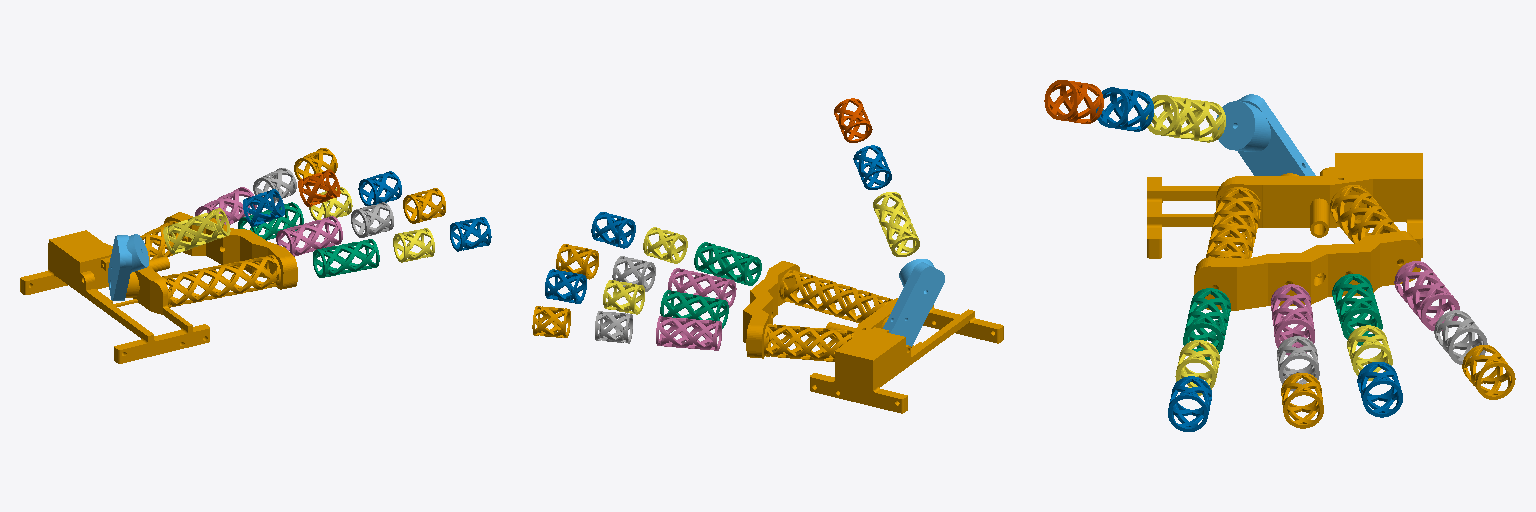
robot.urdf — hand:
<robot name="hand">

    <!--Base-->
    <link name="wrist_base">
        <inertial>
            <density value="1400"/>
        </inertial>
        <collision>
            <origin xyz="0.046 -0.014 0." rpy="0 0 -0.1"/>
            <geometry>
                <box size="0.065 0.035 0.015" />
            </geometry>
        </collision>
        <collision>
            <origin xyz="0.039 0.016 0.0" rpy="0 0 0.35"/>
            <geometry>
                <box size="0.055 0.032 0.015" />
            </geometry>
        </collision>
        <collision>
            <origin xyz="0.043 0.0 0.0" rpy="0 0 0"/>
            <geometry>
                <box size="0.062 0.025 0.015" />
            </geometry>
        </collision>
        <collision>
            <origin xyz="0.011 -0.002 0.0" rpy="0 0 0"/>
            <geometry>
                <box size="0.006 0.05 0.015" />
            </geometry>
        </collision>
        <visual>
            <origin xyz="0 0 0" rpy="-3.142 0 -1.571"/>
            <geometry>
                <mesh filename="meshes/wrist_bone.stl" scale="0.001 0.001 0.001"/>
            </geometry>
        </visual>
        <visual>
            <origin xyz="0.014 -0.02 0" rpy="0 0 -1.661"/>
            <geometry>
                <mesh filename="meshes/metacarpal_long.stl" scale="0.001 0.001 0.001"/>
            </geometry>
        </visual>
        <visual>
            <origin xyz="0.012 0.016 0" rpy="0 0 -1.241"/>
            <geometry>
                <mesh filename="meshes/metacarpal_short.stl" scale="0.001 0.001 0.001"/>
            </geometry>
        </visual>
    </link>
    
    <!--Index-->
    <link name="index_base">
        <inertial>
            <density value="1400"/>
        </inertial>
        <collision>
            <origin xyz="0.0035 0 0" rpy="0 -1.571 0"/>
            <geometry>
                <cylinder length="0.007" radius="0.007" />
            </geometry>
        </collision>
    </link>
    <link name="index_proximal">
        <inertial>
            <density value="1400"/>
        </inertial>
        <collision>
            <origin xyz="0.02 0 0" rpy="0 -1.571 0"/>
            <geometry>
                <cylinder length="0.04" radius="0.007" />
            </geometry>
        </collision>
        <visual>
            <origin xyz="0.007 0 0" rpy="0 0 -1.571"/>
            <geometry>
                <mesh filename="meshes/bone_long.stl" scale="0.001 0.001 0.001"/>
            </geometry>
        </visual>
    </link>
    <link name="index_middle">
        <inertial>
            <density value="1400"/>
        </inertial>
        <collision>
            <origin xyz="0.014 0 0" rpy="0 -1.571 0"/>
            <geometry>
                <cylinder length="0.028" radius="0.007" />
            </geometry>
        </collision>
        <visual>
            <origin xyz="0.007 0.0 0" rpy="0 0 -1.571"/>
            <geometry>
                <mesh filename="meshes/bone_short.stl" scale="0.001 0.001 0.001"/>
            </geometry>
        </visual>
    </link>
    <link name="index_distal">
        <inertial>
            <density value="1400"/>
        </inertial>
        <collision>
            <origin xyz="0.011 0 0" rpy="0 -1.571 0"/>
            <geometry>
                <cylinder length="0.022" radius="0.007" />
            </geometry>
        </collision>
        <visual>
            <origin xyz="0.007 0 0" rpy="0 0 -1.571"/>
            <geometry>
                <mesh filename="meshes/bone_short.stl" scale="0.001 0.001 0.001"/>
            </geometry>
        </visual>
    </link> 
    
    <joint name="wrist_to_index_base" type="fixed">
        <child link="index_base"/>
        <parent link="wrist_base"/>
        <origin xyz="0.077 -0.028 0.0003" rpy="0 0 -0.09"/>
    </joint>
    <joint name="index_base_to_index_proximal" type="revolute">
        <child link="index_proximal"/>
        <parent link="index_base"/>
        <origin xyz="0.007 0 0" rpy="0 0 0"/>
        <axis xyz="0 -1 0"/>
        <limit lower="0" upper="1.571" effort="1e+15" velocity="20"/>
    </joint>
    <joint name="index_proximal_to_index_middle" type="revolute">
        <child link="index_middle"/>
        <parent link="index_proximal"/>
        <origin xyz="0.04 0 0" rpy="0 0 0"/>
        <axis xyz="0 -1 0"/>
        <limit lower="0" upper="1.571" effort="1e+15" velocity="20"/>
    </joint>
    <joint name="index_middle_to_index_distal" type="revolute">
        <child link="index_distal"/>
        <parent link="index_middle"/>
        <origin xyz="0.028 0 0" rpy="0 0 0"/>
        <axis xyz="0 -1 0"/>
        <limit lower="0" upper="1.571" effort="1e+15" velocity="20"/>
    </joint>

    <!--Mid-->
    <link name="mid_base">
        <inertial>
            <density value="1400"/>
        </inertial>
        <collision>
            <origin xyz="0.0035 0 0" rpy="0 -1.571 0"/>
            <geometry>
                <cylinder length="0.007" radius="0.007" />
            </geometry>
        </collision>
    </link>
    <link name="mid_proximal">
        <inertial>
            <density value="1400"/>
        </inertial>
        <collision>
            <origin xyz="0.02 0 0" rpy="0 -1.571 0"/>
            <geometry>
                <cylinder length="0.04" radius="0.007" />
            </geometry>
        </collision>
        <visual>
            <origin xyz="0.007 0 0" rpy="0 0 -1.571"/>
            <geometry>
                <mesh filename="meshes/bone_long.stl" scale="0.001 0.001 0.001"/>
            </geometry>
        </visual>
    </link>
    <link name="mid_middle">
        <inertial>
            <density value="1400"/>
        </inertial>
        <collision>
            <origin xyz="0.014 0 0" rpy="0 -1.571 0"/>
            <geometry>
                <cylinder length="0.028" radius="0.007" />
            </geometry>
        </collision>
        <visual>
            <origin xyz="0.007 0.0 0" rpy="0 0 -1.571"/>
            <geometry>
                <mesh filename="meshes/bone_short.stl" scale="0.001 0.001 0.001"/>
            </geometry>
        </visual>
    </link>
    <link name="mid_distal">
        <inertial>
            <density value="1400"/>
        </inertial>
        <collision>
            <origin xyz="0.011 0 0" rpy="0 -1.571 0"/>
            <geometry>
                <cylinder length="0.022" radius="0.007" />
            </geometry>
        </collision>
        <visual>
            <origin xyz="0.007 0 0" rpy="0 0 -1.571"/>
            <geometry>
                <mesh filename="meshes/bone_short.stl" scale="0.001 0.001 0.001"/>
            </geometry>
        </visual>
    </link> 
    
    <joint name="wrist_to_mid_base" type="fixed">
        <child link="mid_base"/>
        <parent link="wrist_base"/>
        <origin xyz="0.074 -0.004 0.0003" rpy="0 0 0.05"/>
    </joint>
    <joint name="mid_base_to_mid_proximal" type="revolute">
        <child link="mid_proximal"/>
        <parent link="mid_base"/>
        <origin xyz="0.007 0 0" rpy="0 0 0"/>
        <axis xyz="0 -1 0"/>
        <limit lower="0" upper="1.571" effort="1e+15" velocity="20"/>
    </joint>
    <joint name="mid_proximal_to_mid_middle" type="revolute">
        <child link="mid_middle"/>
        <parent link="mid_proximal"/>
        <origin xyz="0.04 0 0" rpy="0 0 0"/>
        <axis xyz="0 -1 0"/>
        <limit lower="0" upper="1.571" effort="1e+15" velocity="20"/>
    </joint>
    <joint name="mid_middle_to_mid_distal" type="revolute">
        <child link="mid_distal"/>
        <parent link="mid_middle"/>
        <origin xyz="0.028 0 0" rpy="0 0 0"/>
        <axis xyz="0 -1 0"/>
        <limit lower="0" upper="1.571" effort="1e+15" velocity="20"/>
    </joint>

    <!--Ring-->
    <link name="ring_base">
        <inertial>
            <density value="1400"/>
        </inertial>
        <collision>
            <origin xyz="0.0035 0 0" rpy="0 -1.571 0"/>
            <geometry>
                <cylinder length="0.007" radius="0.007" />
            </geometry>
        </collision>
    </link>
    <link name="ring_proximal">
        <inertial>
            <density value="1400"/>
        </inertial>
        <collision>
            <origin xyz="0.02 0 0" rpy="0 -1.571 0"/>
            <geometry>
                <cylinder length="0.04" radius="0.007" />
            </geometry>
        </collision>
        <visual>
            <origin xyz="0.007 0 0" rpy="0 0 -1.571"/>
            <geometry>
                <mesh filename="meshes/bone_long.stl" scale="0.001 0.001 0.001"/>
            </geometry>
        </visual>
    </link>
    <link name="ring_middle">
        <inertial>
            <density value="1400"/>
        </inertial>
        <collision>
            <origin xyz="0.014 0 0" rpy="0 -1.571 0"/>
            <geometry>
                <cylinder length="0.028" radius="0.007" />
            </geometry>
        </collision>
        <visual>
            <origin xyz="0.007 0.0 0" rpy="0 0 -1.571"/>
            <geometry>
                <mesh filename="meshes/bone_short.stl" scale="0.001 0.001 0.001"/>
            </geometry>
        </visual>
    </link>
    <link name="ring_distal">
        <inertial>
            <density value="1400"/>
        </inertial>
        <collision>
            <origin xyz="0.011 0 0" rpy="0 -1.571 0"/>
            <geometry>
                <cylinder length="0.022" radius="0.007" />
            </geometry>
        </collision>
        <visual>
            <origin xyz="0.007 0 0" rpy="0 0 -1.571"/>
            <geometry>
                <mesh filename="meshes/bone_short.stl" scale="0.001 0.001 0.001"/>
            </geometry>
        </visual>
    </link> 
    
    <joint name="wrist_to_ring_base" type="fixed">
        <child link="ring_base"/>
        <parent link="wrist_base"/>
        <origin xyz="0.066 0.015 0.0003" rpy="0 0 0.12"/>
    </joint>
    <joint name="ring_base_to_ring_proximal" type="revolute">
        <child link="ring_proximal"/>
        <parent link="ring_base"/>
        <origin xyz="0.007 0 0" rpy="0 0 0"/>
        <axis xyz="0 -1 0"/>
        <limit lower="0" upper="1.571" effort="1e+15" velocity="20"/>
    </joint>
    <joint name="ring_proximal_to_ring_middle" type="revolute">
        <child link="ring_middle"/>
        <parent link="ring_proximal"/>
        <origin xyz="0.04 0 0" rpy="0 0 0"/>
        <axis xyz="0 -1 0"/>
        <limit lower="0" upper="1.571" effort="1e+15" velocity="20"/>
    </joint>
    <joint name="ring_middle_to_ring_distal" type="revolute">
        <child link="ring_distal"/>
        <parent link="ring_middle"/>
        <origin xyz="0.028 0 0" rpy="0 0 0"/>
        <axis xyz="0 -1 0"/>
        <limit lower="0" upper="1.571" effort="1e+15" velocity="20"/>
    </joint>

    <!--Pinky-->
    <link name="pinky_base">
        <inertial>
            <density value="1400"/>
        </inertial>
        <collision>
            <origin xyz="0.0035 0 0" rpy="0 -1.571 0"/>
            <geometry>
                <cylinder length="0.007" radius="0.007" />
            </geometry>
        </collision>
    </link>
    <link name="pinky_proximal">
        <inertial>
            <density value="1400"/>
        </inertial>
        <collision>
            <origin xyz="0.02 0 0" rpy="0 -1.571 0"/>
            <geometry>
                <cylinder length="0.04" radius="0.007" />
            </geometry>
        </collision>
        <visual>
            <origin xyz="0.007 0 0" rpy="0 0 -1.571"/>
            <geometry>
                <mesh filename="meshes/bone_long.stl" scale="0.001 0.001 0.001"/>
            </geometry>
        </visual>
    </link>
    <link name="pinky_middle">
        <inertial>
            <density value="1400"/>
        </inertial>
        <collision>
            <origin xyz="0.014 0 0" rpy="0 -1.571 0"/>
            <geometry>
                <cylinder length="0.028" radius="0.007" />
            </geometry>
        </collision>
        <visual>
            <origin xyz="0.007 0.0 0" rpy="0 0 -1.571"/>
            <geometry>
                <mesh filename="meshes/bone_short.stl" scale="0.001 0.001 0.001"/>
            </geometry>
        </visual>
    </link>
    <link name="pinky_distal">
        <inertial>
            <density value="1400"/>
        </inertial>
        <collision>
            <origin xyz="0.011 0 0" rpy="0 -1.571 0"/>
            <geometry>
                <cylinder length="0.022" radius="0.007" />
            </geometry>
        </collision>
        <visual>
            <origin xyz="0.007 0 0" rpy="0 0 -1.571"/>
            <geometry>
                <mesh filename="meshes/bone_short.stl" scale="0.001 0.001 0.001"/>
            </geometry>
        </visual>
    </link> 
    
    <joint name="wrist_to_pinky_base" type="fixed">
        <child link="pinky_base"/>
        <parent link="wrist_base"/>
        <origin xyz="0.057 0.032 0.0003" rpy="0 0 0.33"/>
    </joint>
    <joint name="pinky_base_to_pinky_proximal" type="revolute">
        <child link="pinky_proximal"/>
        <parent link="pinky_base"/>
        <origin xyz="0.007 0 0" rpy="0 0 0"/>
        <axis xyz="0 -1 0"/>
        <limit lower="0" upper="1.571" effort="1e+15" velocity="20"/>
    </joint>
    <joint name="pinky_proximal_to_pinky_middle" type="revolute">
        <child link="pinky_middle"/>
        <parent link="pinky_proximal"/>
        <origin xyz="0.04 0 0" rpy="0 0 0"/>
        <axis xyz="0 -1 0"/>
        <limit lower="0" upper="1.571" effort="1e+15" velocity="20"/>
    </joint>
    <joint name="pinky_middle_to_pinky_distal" type="revolute">
        <child link="pinky_distal"/>
        <parent link="pinky_middle"/>
        <origin xyz="0.028 0 0" rpy="0 0 0"/>
        <axis xyz="0 -1 0"/>
        <limit lower="0" upper="1.571" effort="1e+15" velocity="20"/>
    </joint>

    <!--Thumb-->
    <link name="thumb_yaw">
        <inertial>
            <density value="1400"/>
        </inertial>
        <collision>
            <origin xyz="0.004 0 0" rpy="0 -1.571 0"/>
            <geometry>
                <cylinder length="0.01" radius="0.007" />
            </geometry>
        </collision>
        <collision>
            <origin xyz="-0.0035 -0.015 0" rpy="0 -1.571 0"/>
            <geometry>
                <box size="0.016 0.04 0.005" />
            </geometry>
        </collision>
        <visual>
            <origin xyz="-0.0033 0 0" rpy="0 0 -1.571"/>
            <geometry>
                <mesh filename="meshes/thumb_yaw.stl" scale="0.001 0.001 0.001"/>
            </geometry>
        </visual>
    </link>
    <link name="thumb_base">
        <inertial>
            <density value="1400"/>
        </inertial>
        <collision>
            <origin xyz="-0.002 0 0" rpy="0 -1.571 0"/>
            <geometry>
                <cylinder length="0.018" radius="0.007" />
            </geometry>
        </collision>
    </link>
    <link name="thumb_proximal">
        <inertial>
            <density value="1400"/>
        </inertial>
        <collision>
            <origin xyz="0.02 0 0" rpy="0 -1.571 0"/>
            <geometry>
                <cylinder length="0.04" radius="0.007" />
            </geometry>
        </collision>
        <visual>
            <origin xyz="0.007 0 0" rpy="0 0 -1.571"/>
            <geometry>
                <mesh filename="meshes/bone_long.stl" scale="0.001 0.001 0.001"/>
            </geometry>
        </visual>
    </link>
    <link name="thumb_middle">
        <inertial>
            <density value="1400"/>
        </inertial>
        <collision>
            <origin xyz="0.014 0 0" rpy="0 -1.571 0"/>
            <geometry>
                <cylinder length="0.028" radius="0.007" />
            </geometry>
        </collision>
        <visual>
            <origin xyz="0.007 0.0 0" rpy="0 0 -1.571"/>
            <geometry>
                <mesh filename="meshes/bone_short.stl" scale="0.001 0.001 0.001"/>
            </geometry>
        </visual>
    </link>
    <link name="thumb_distal">
        <inertial>
            <density value="1400"/>
        </inertial>
        <collision>
            <origin xyz="0.011 0 0" rpy="0 -1.571 0"/>
            <geometry>
                <cylinder length="0.022" radius="0.007" />
            </geometry>
        </collision>
        <visual>
            <origin xyz="0.007 0 0" rpy="0 0 -1.571"/>
            <geometry>
                <mesh filename="meshes/bone_short.stl" scale="0.001 0.001 0.001"/>
            </geometry>
        </visual>
    </link> 

    <joint name="wrist_to_thumb_yaw" type="revolute">
        <child link="thumb_yaw"/>
        <parent link="wrist_base"/>
        <origin xyz="0.005 -0.003 0" rpy="0 0 -0.35"/>
        <axis xyz="-1 0 0"/>
        <limit lower="0.3" upper="1.571" effort="1e+15" velocity="20"/>
    </joint>
    <joint name="thumb_yaw_to_thumb_base" type="fixed">
        <child link="thumb_base"/>
        <parent link="thumb_yaw"/>
        <origin xyz="0.005 -0.03 0.0" rpy="-0 0 -0.55"/>
    </joint>
    <joint name="thumb_base_to_thumb_proximal" type="revolute">
        <child link="thumb_proximal"/>
        <parent link="thumb_base"/>
        <origin xyz="0.007 0 0" rpy="0 0 0"/>
        <axis xyz="0 -1 0"/>
        <limit lower="0" upper="1.571" effort="1e+15" velocity="20"/>
    </joint>
    <joint name="thumb_proximal_to_thumb_middle" type="revolute">
        <child link="thumb_middle"/>
        <parent link="thumb_proximal"/>
        <origin xyz="0.04 0 0" rpy="0 0 0"/>
        <axis xyz="0 -1 0"/>
        <limit lower="0" upper="1.571" effort="1e+15" velocity="20"/>
    </joint>
    <joint name="thumb_middle_to_thumb_distal" type="revolute">
        <child link="thumb_distal"/>
        <parent link="thumb_middle"/>
        <origin xyz="0.028 0 0" rpy="0 0 0"/>
        <axis xyz="0 -1 0"/>
        <limit lower="0" upper="1.571" effort="1e+15" velocity="20"/>
    </joint>

</robot>

--- Facts derived from the render (not from the file) ---
The picture shows the robot from 3 angles, left to right: view 1: azimuth 30°, elevation 25°; view 2: azimuth 150°, elevation 25°; view 3: azimuth 270°, elevation 25°; orthographic projection.
Robot: hand — 22 links, 21 joints (16 revolute, 5 fixed); root link wrist_base; default pose: joints at zero except 1 at the middle of their limits (wrist_to_thumb_yaw = 0.9355).
Links seen in each view (by area): view 1: wrist_base, thumb_yaw, thumb_proximal, index_proximal, mid_proximal, thumb_distal, thumb_middle, mid_distal, mid_middle, index_middle, index_distal, ring_distal (+5 smaller); view 2: wrist_base, thumb_yaw, pinky_proximal, index_proximal, thumb_proximal, ring_proximal, mid_proximal, index_distal, ring_distal, thumb_middle, index_middle, thumb_distal (+5 smaller); view 3: wrist_base, thumb_yaw, thumb_proximal, pinky_proximal, ring_proximal, index_proximal, mid_proximal, thumb_distal, pinky_distal, thumb_middle, ring_distal, index_distal (+5 smaller).
Link boxes in pixels (left/top/right/bottom): wrist_base: left=20, top=212, right=297, bottom=363; thumb_yaw: left=108, top=234, right=148, bottom=300; thumb_proximal: left=163, top=208, right=230, bottom=254; index_proximal: left=313, top=239, right=379, bottom=277; mid_proximal: left=276, top=216, right=342, bottom=256; thumb_distal: left=298, top=169, right=340, bottom=206; thumb_middle: left=243, top=189, right=284, bottom=226; mid_distal: left=403, top=188, right=445, bottom=223; mid_middle: left=351, top=202, right=393, bottom=237; index_middle: left=393, top=228, right=434, bottom=262; index_distal: left=450, top=217, right=491, bottom=251; ring_distal: left=358, top=171, right=401, bottom=205; wrist_base: left=743, top=261, right=1003, bottom=413; thumb_yaw: left=883, top=259, right=944, bottom=346; pinky_proximal: left=656, top=316, right=721, bottom=350; index_proximal: left=694, top=242, right=761, bottom=285; thumb_proximal: left=873, top=192, right=919, bottom=256; ring_proximal: left=660, top=290, right=728, bottom=328; mid_proximal: left=668, top=268, right=736, bottom=307; index_distal: left=591, top=212, right=635, bottom=248; ring_distal: left=545, top=269, right=586, bottom=303; thumb_middle: left=853, top=145, right=891, bottom=189; index_middle: left=643, top=227, right=687, bottom=263; thumb_distal: left=834, top=98, right=872, bottom=142; wrist_base: left=1147, top=153, right=1422, bottom=310; thumb_yaw: left=1216, top=94, right=1315, bottom=175; thumb_proximal: left=1146, top=95, right=1225, bottom=142; pinky_proximal: left=1394, top=261, right=1459, bottom=330; ring_proximal: left=1332, top=274, right=1382, bottom=345; index_proximal: left=1183, top=288, right=1230, bottom=359; mid_proximal: left=1271, top=284, right=1314, bottom=355; thumb_distal: left=1044, top=80, right=1103, bottom=123; pinky_distal: left=1462, top=345, right=1515, bottom=399; thumb_middle: left=1096, top=87, right=1153, bottom=131; ring_distal: left=1357, top=362, right=1402, bottom=417; index_distal: left=1168, top=376, right=1211, bottom=431.
Bounding box of the posed robot: 0.199 × 0.1529 × 0.0851 m (x, y, z).
19 mesh visuals loaded from 6 distinct referenced files (6 binary STL).